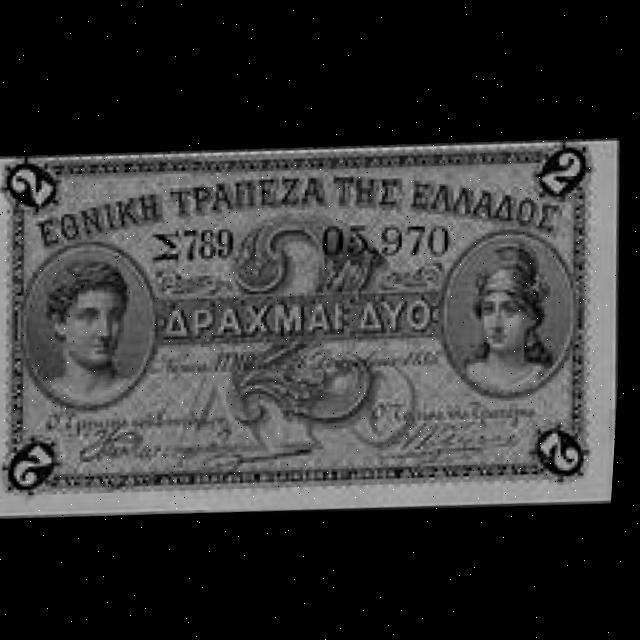banknote: (0, 122, 634, 530), (524, 409, 607, 484), (2, 423, 71, 501), (533, 135, 597, 204), (0, 160, 70, 219)
